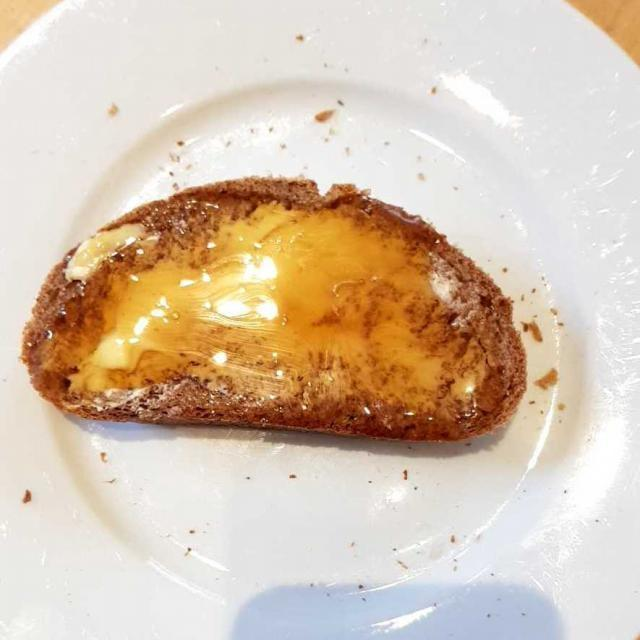bread: (28, 180, 527, 440)
butter: (60, 218, 474, 406)
honey: (54, 190, 478, 410)
